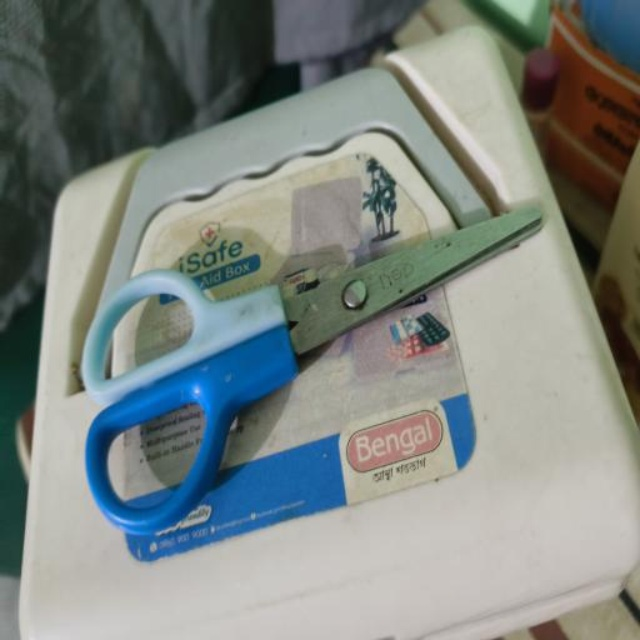scissor: (78, 202, 549, 538)
